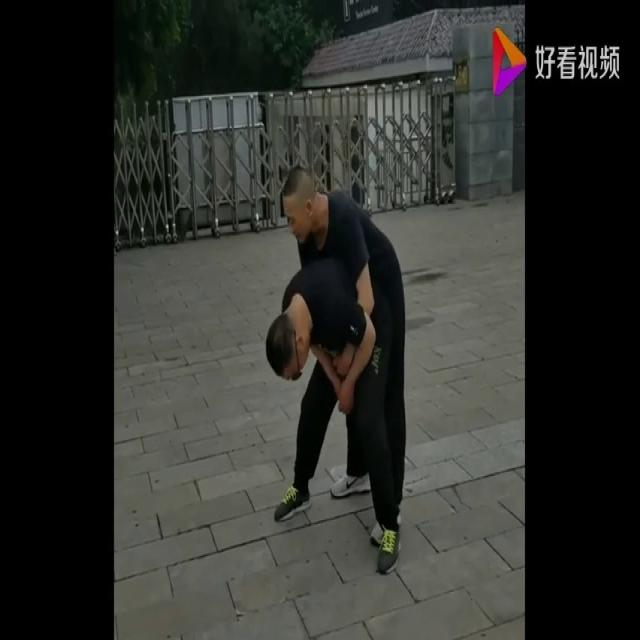fight: (263, 165, 407, 574)
